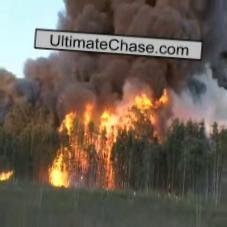fire: (49, 84, 170, 193), (0, 166, 16, 180)
